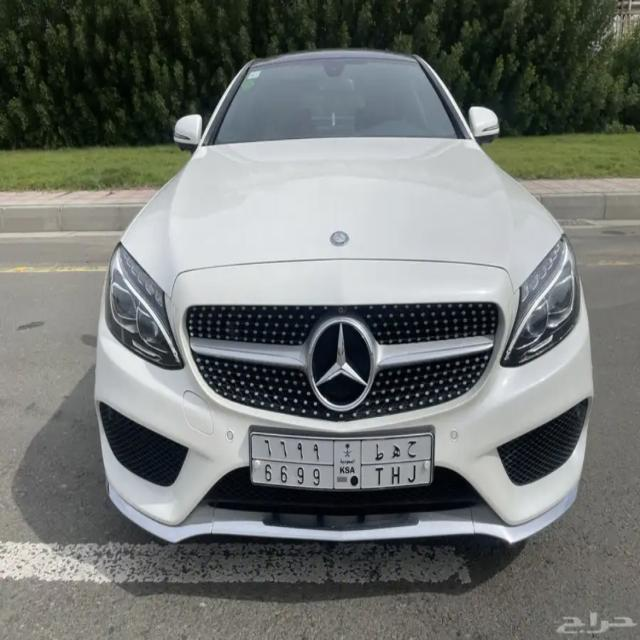license_plate: (248, 425, 438, 497)
